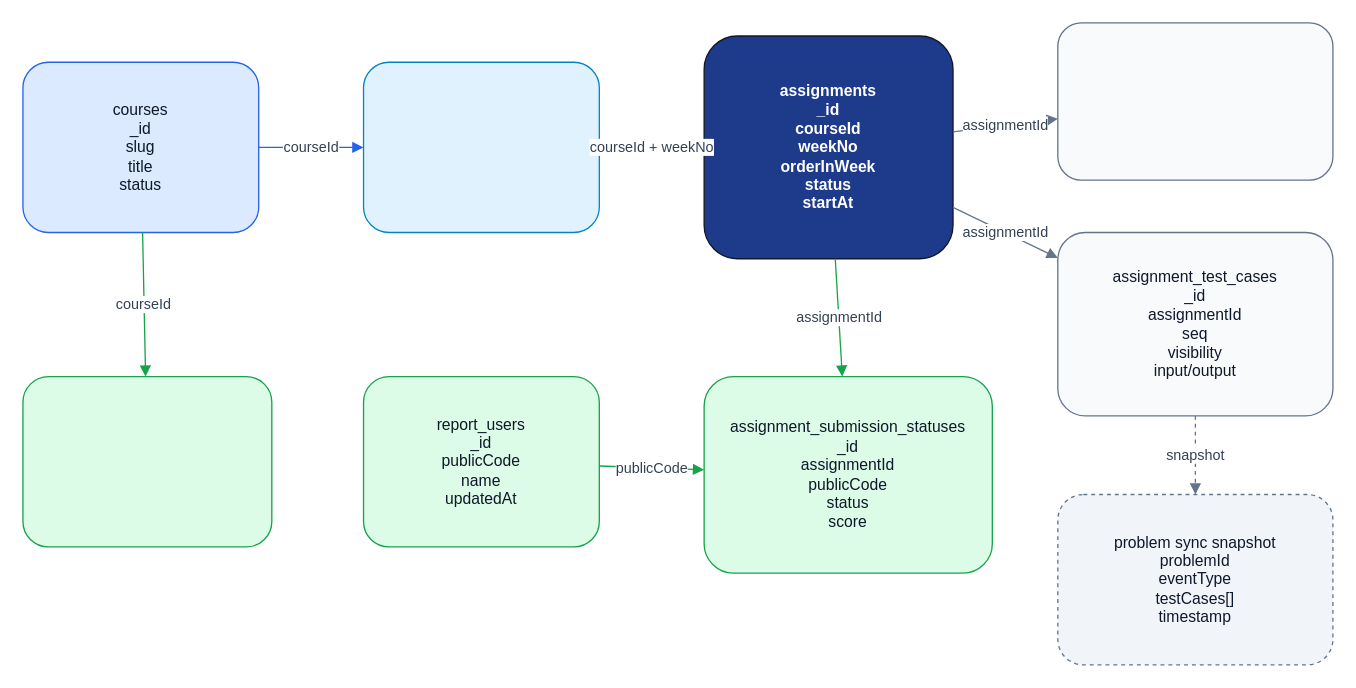
This 1356x688 diagram has some shape labels left out. Here are the shapes that lost their labels. From the top down, the centre of each, then its label:
the point at 1195,101: assignment_requirements _id assignmentId sortOrder content
the point at 480,147: course_weeks _id courseId weekNo title
the point at 147,461: course_enrollments _id courseId userId status
